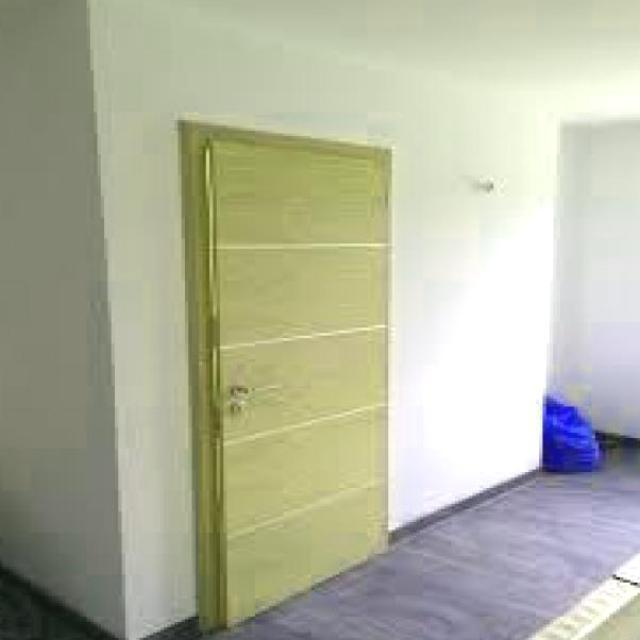door: (183, 119, 392, 631)
